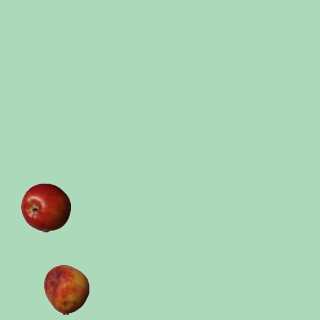Apple Braeburn: (20, 182, 70, 232)
Peach: (41, 264, 91, 314)
